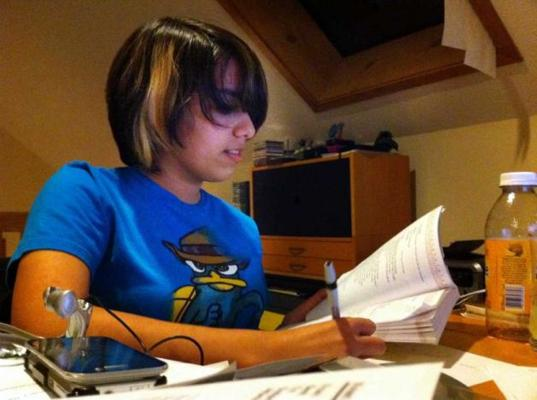person: (9, 16, 388, 371)
